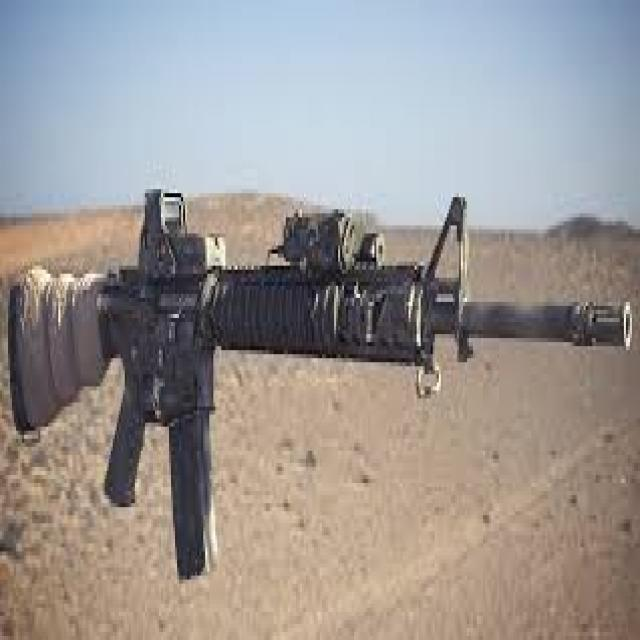m16: (22, 161, 546, 594)
